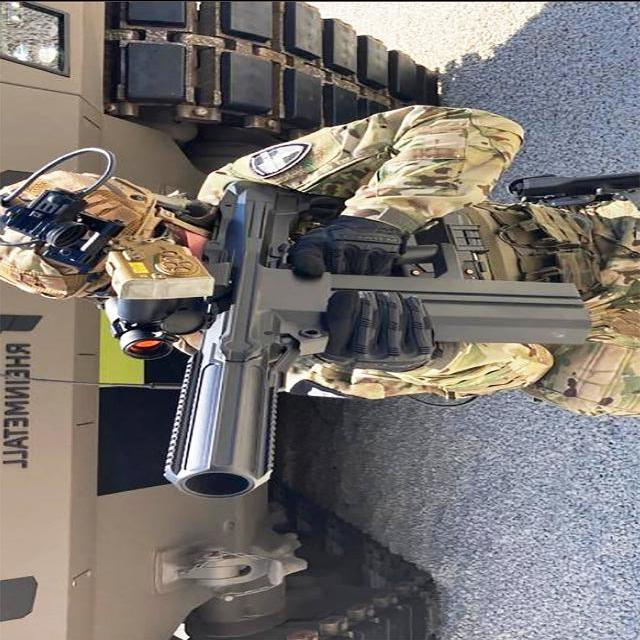rifle: (159, 181, 597, 499)
scope: (109, 250, 207, 368)
